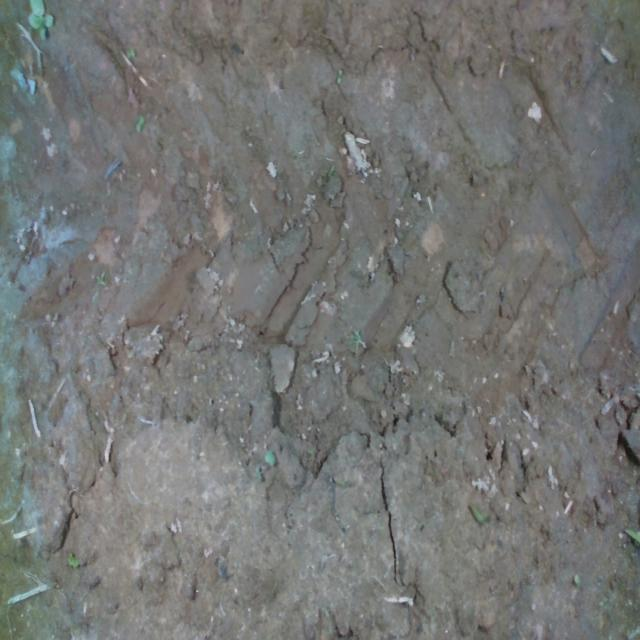weed: (134, 113, 144, 132), (125, 47, 135, 58), (336, 66, 342, 84)
